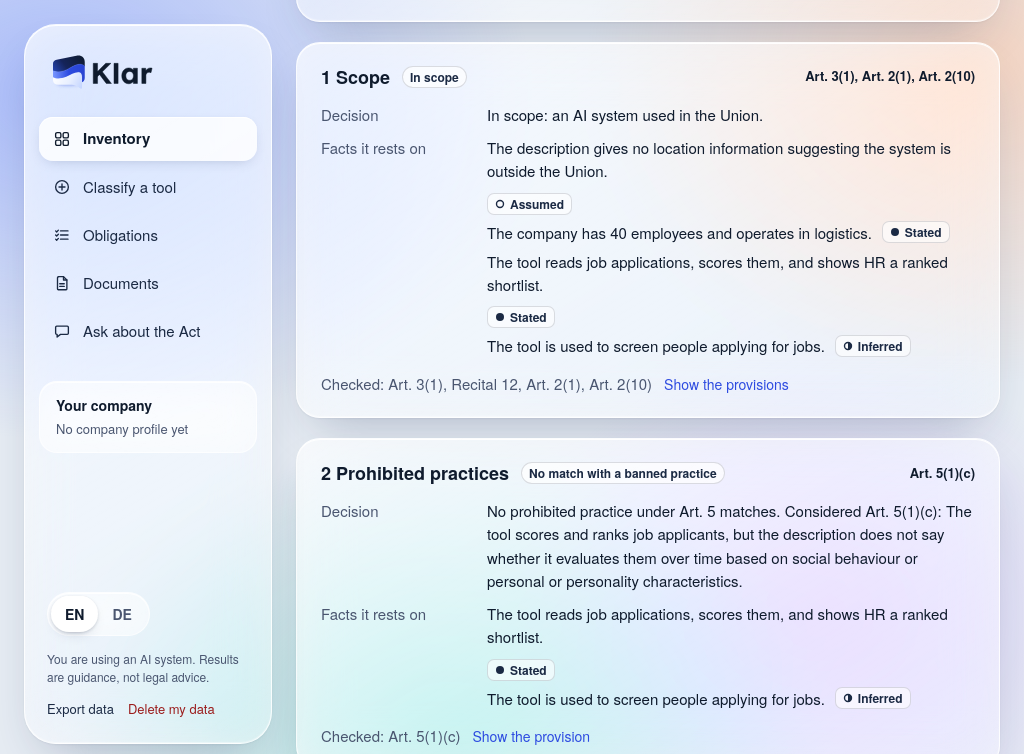
Test: Result reviewer view › expands every step with its decision, facts, evidence tags and provisions
The width and height of the screenshot is (1024, 754).
(page scrolled)
Expected: the text "Decision" below "1 Scope" is shown, [321,104,378,125]
Expected: the text "Facts it rests on" below "1 Scope" is shown, [321,137,426,158]
Click the button "Show the provisions".
click(726, 384)  # box [664,375,789,394]
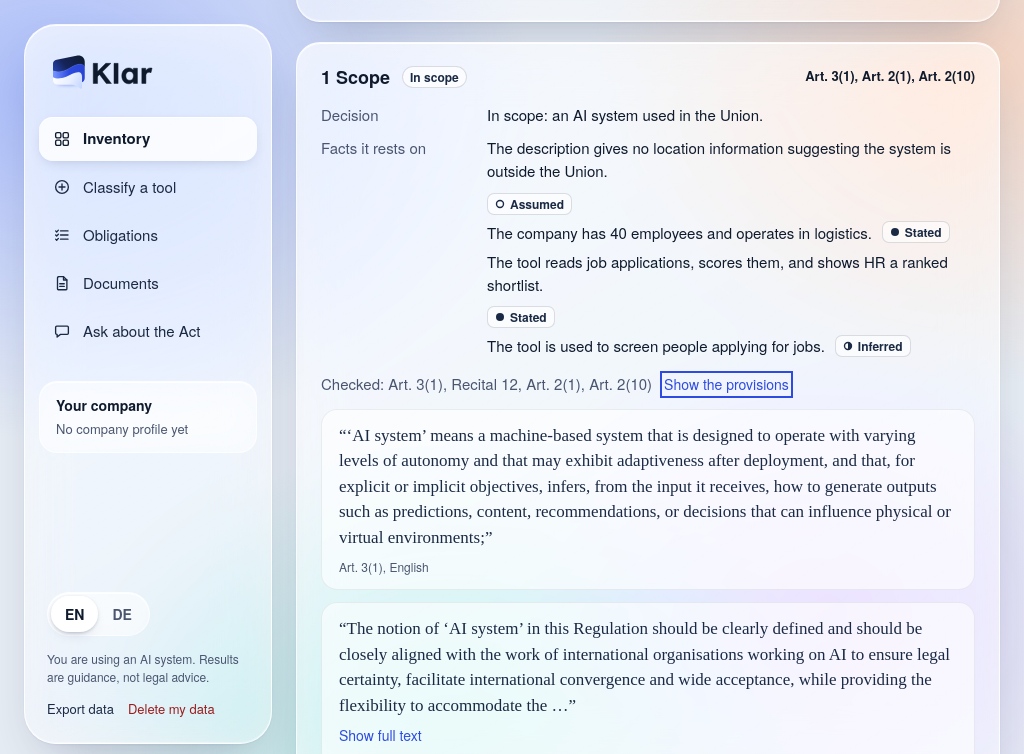
Expected: the text "‘AI system’ means a machine-based system" is shown, [339,426,951,547]
Expected: the text "Art. 3(1), English" is shown, [339,558,429,575]
